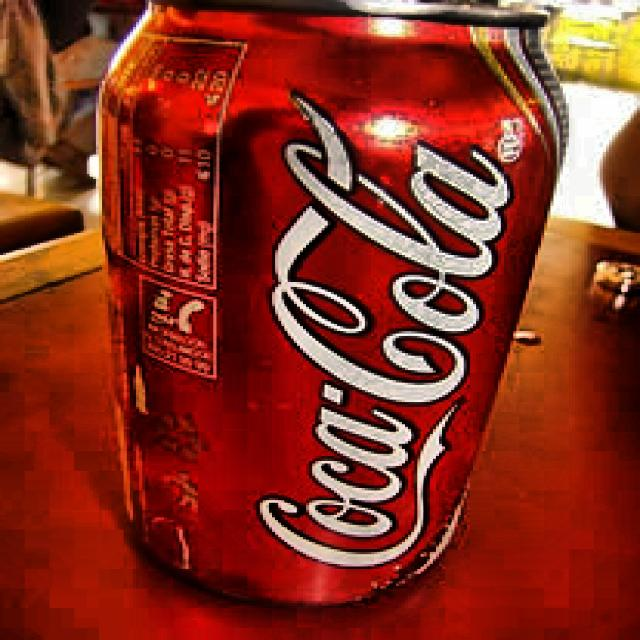Cans: (75, 0, 588, 618)
